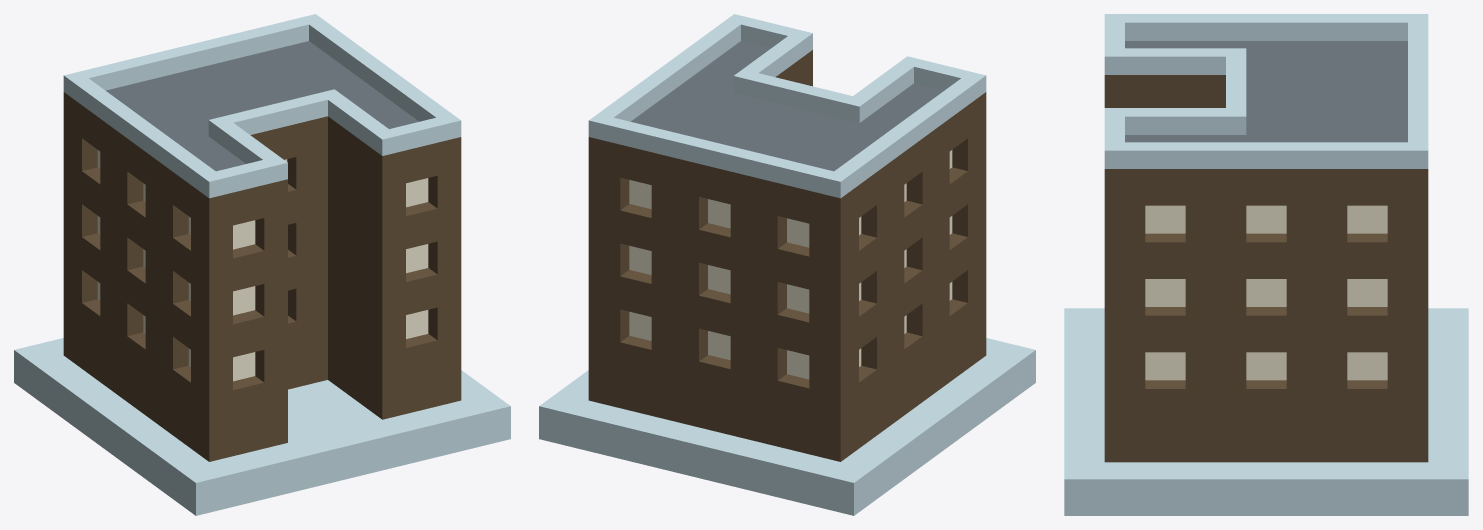
File: Building_5_Base (Brown).obj
The picture shows the model from 3 angles, left to right: view 1: azimuth 30°, elevation 25°; view 2: azimuth 150°, elevation 25°; view 3: azimuth 270°, elevation 25°; orthographic projection. The views are drawn at different scales.
Parts seen in each view (by area): view 1: Building_5_Base_(Brown); view 2: Building_5_Base_(Brown); view 3: Building_5_Base_(Brown).
Boxes of the visible parts, x1,y1,x2,y2 form: Building_5_Base_(Brown): (14,14,510,515); Building_5_Base_(Brown): (539,14,1035,515); Building_5_Base_(Brown): (1064,14,1468,515).
Size of the model in its own units: 2 by 1.9 by 2.
